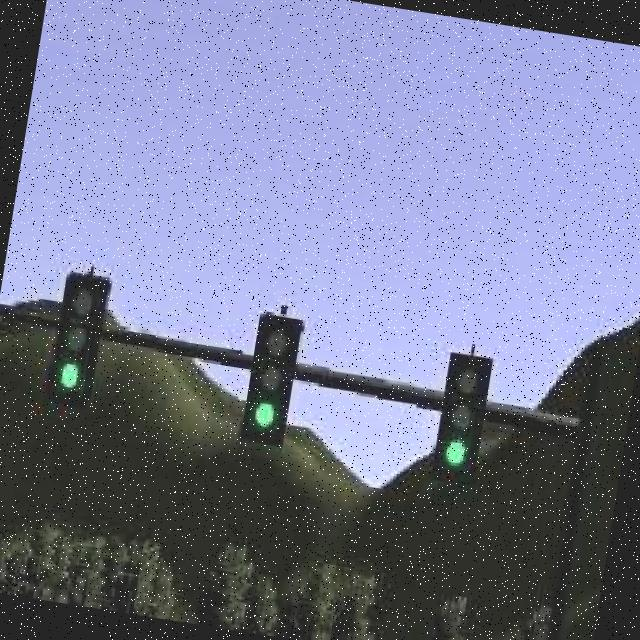Zielone swiatlo: (240, 310, 304, 450), (434, 353, 491, 485), (48, 274, 106, 402)
